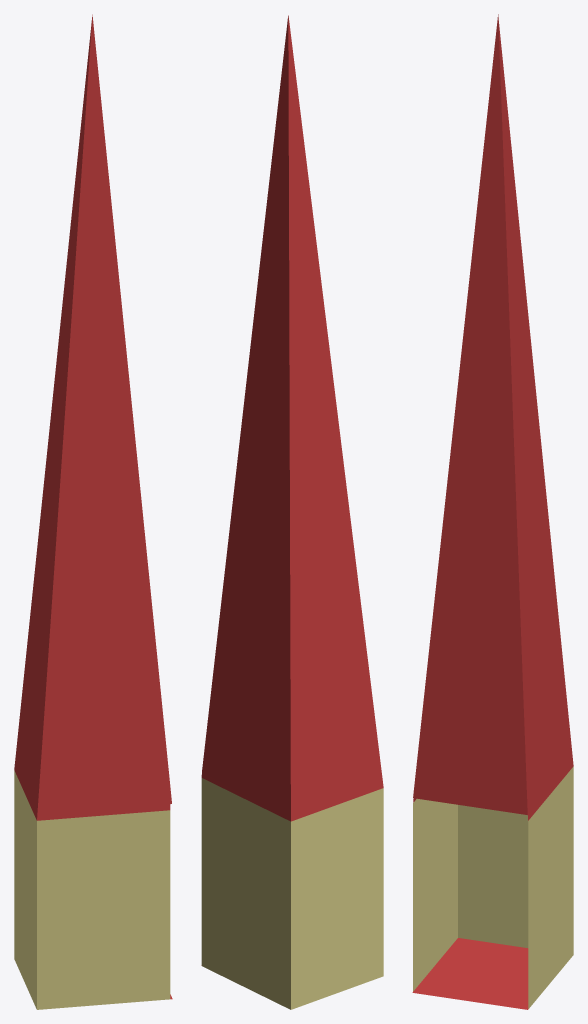
3 views of the same model, side by side, from view 1: azimuth 30°, elevation 25°; view 2: azimuth 150°, elevation 25°; view 3: azimuth 270°, elevation 25° (orthographic).
Bounding box in the file's own units: 7.85 × 7.41 × 48.72.
